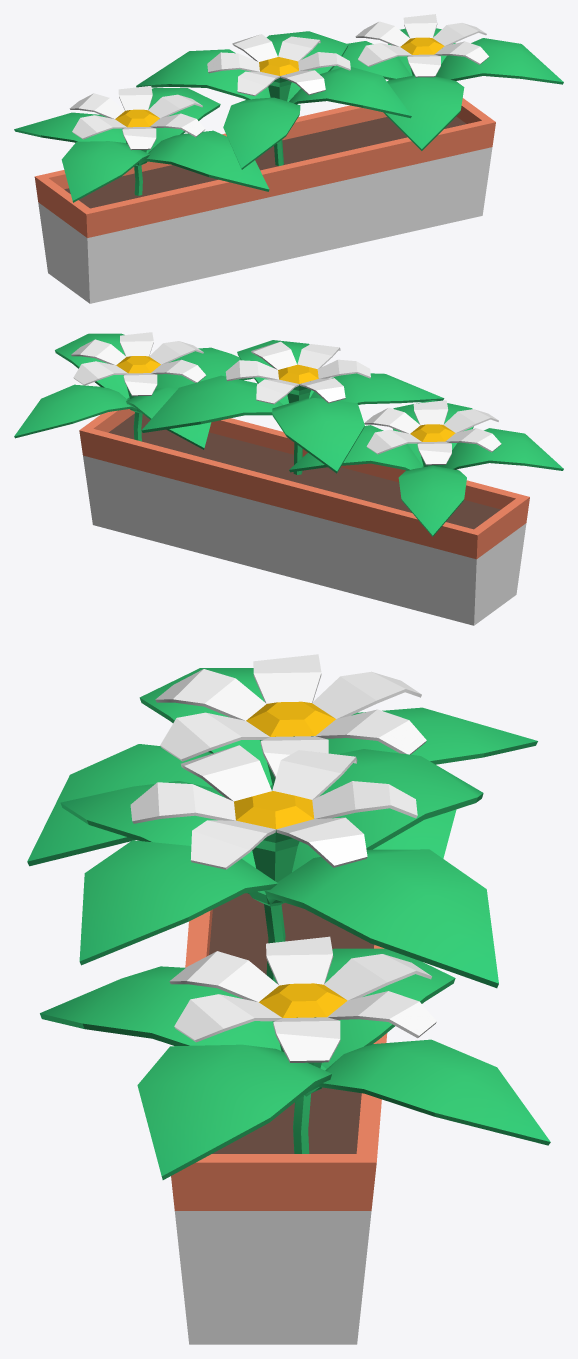
File: Plant1 LV3.fbx
The picture shows the model from 3 angles, top to bottom: view 1: azimuth 30°, elevation 25°; view 2: azimuth 150°, elevation 25°; view 3: azimuth 270°, elevation 25°; orthographic projection. The views are drawn at different scales.
Visible parts, largest first — view 1: Plant_LV3; view 2: Plant_LV3; view 3: Plant_LV3.
Boxes of the visible parts, left/top/right/bottom form: Plant_LV3: left=14, top=14, right=563, bottom=303; Plant_LV3: left=14, top=332, right=563, bottom=625; Plant_LV3: left=27, top=654, right=550, bottom=1344.
Bounding box in the file's own units: 197 × 71.45 × 90.89.
